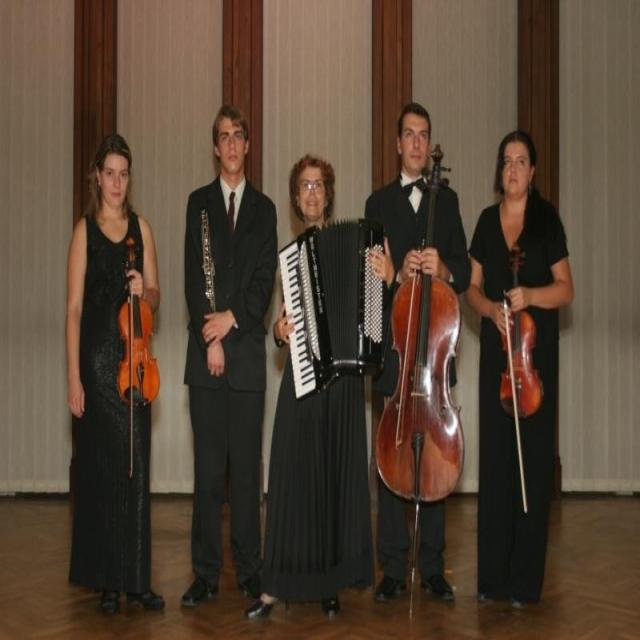cello: (373, 140, 468, 502)
violin: (498, 241, 545, 421), (116, 234, 162, 412)
